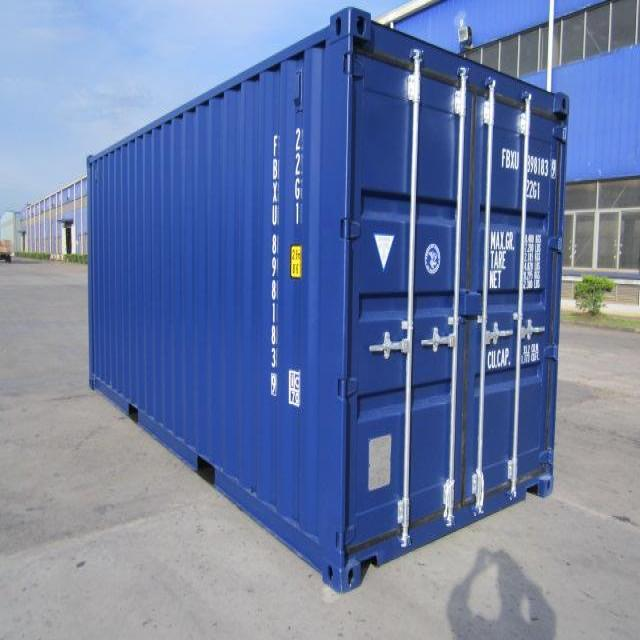ISO: (526, 178, 543, 200)
container_number: (498, 146, 562, 177)
